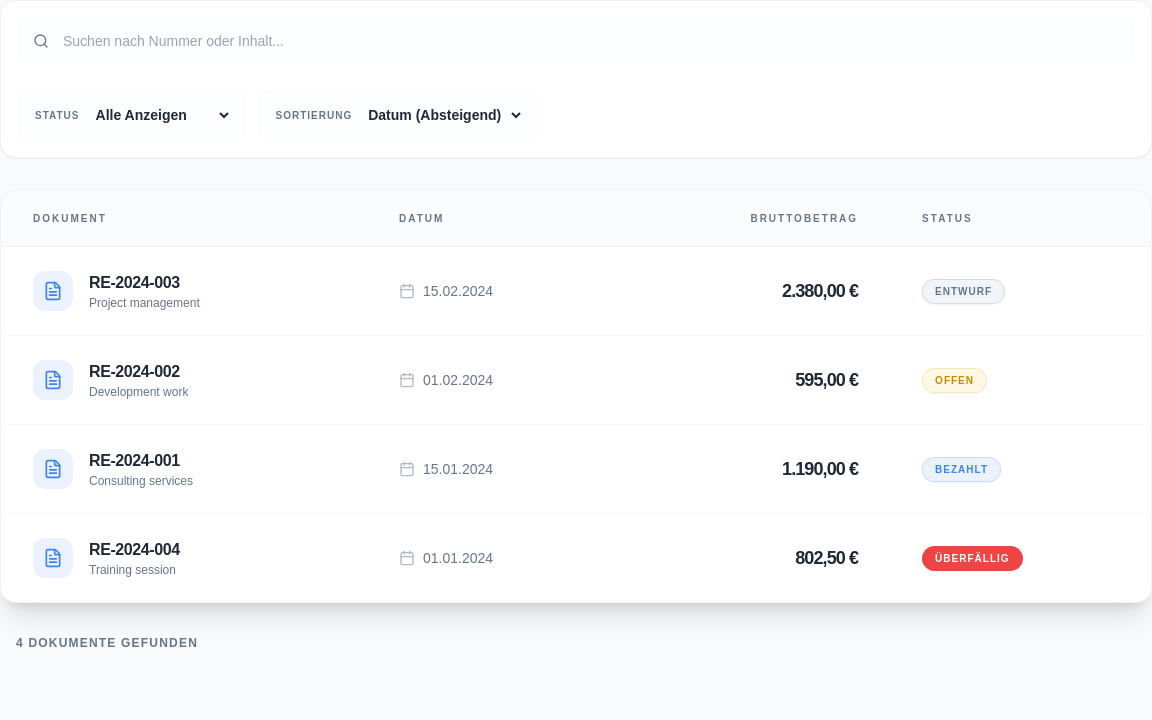
InvoiceList › filtering › should filter by status
Step 1. Select "Bezahlt" in the dropdown named "status" → (162, 115), box [92, 95, 232, 135]
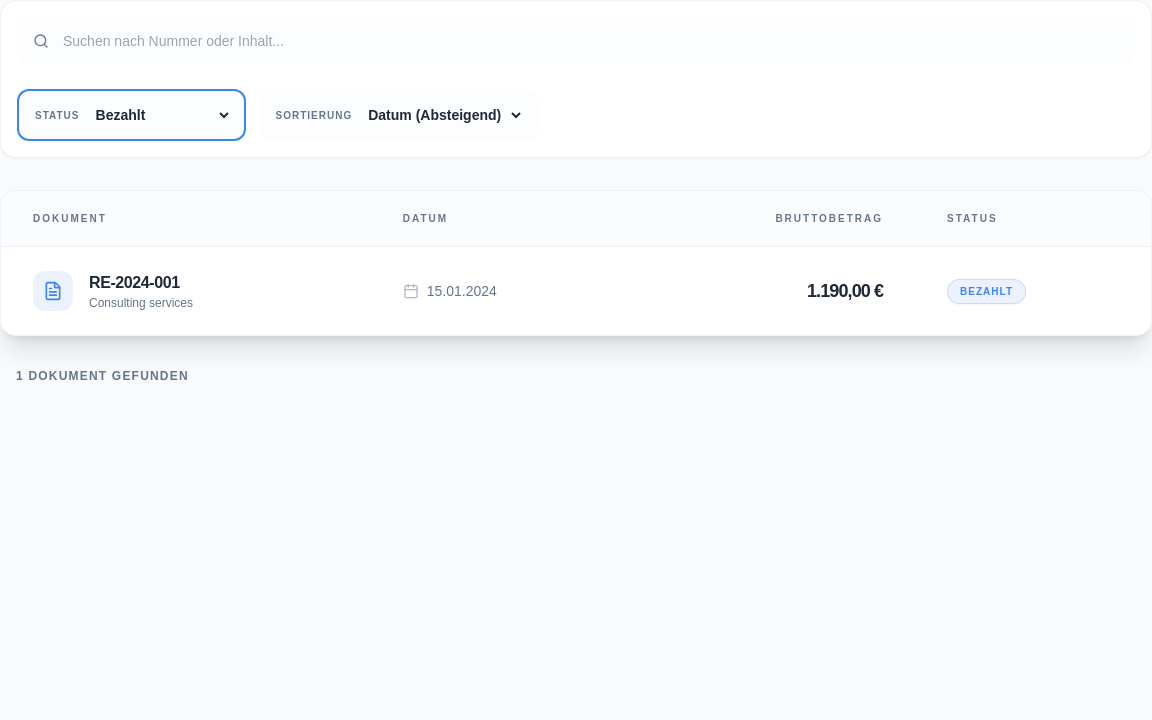
Check: the text "RE-2024-001" is shown, box [89, 271, 193, 295]
Check: the text "RE-2024-002" is gone
Check: the text "RE-2024-003" is gone
